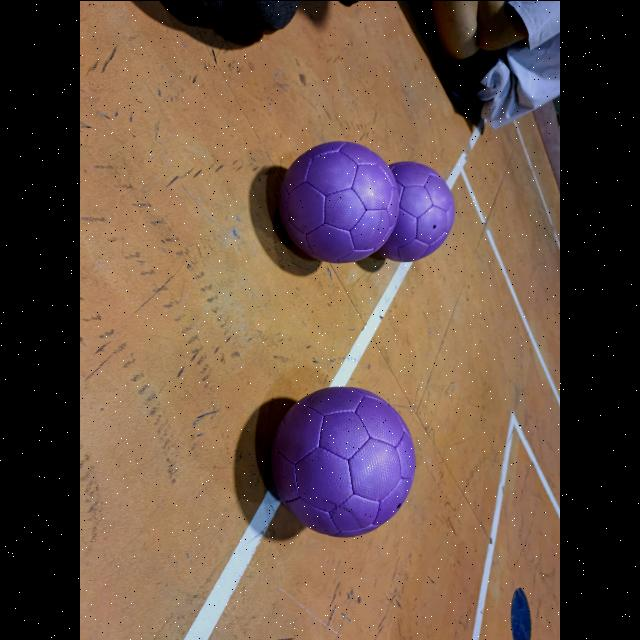P: (271, 386, 415, 536), (280, 140, 398, 262)
